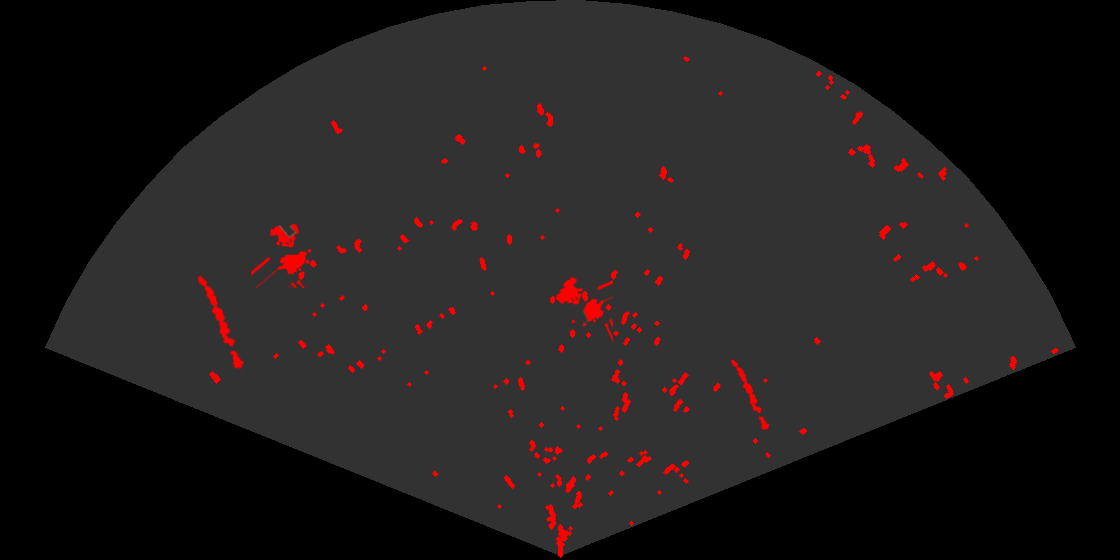cage: (251, 222, 313, 288), (554, 275, 613, 343)
chain: (196, 273, 246, 374), (729, 358, 771, 433)
